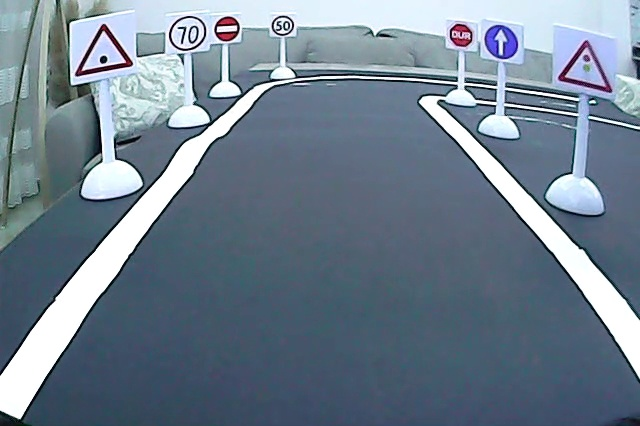do not enter: (213, 16, 242, 46)
green light: (70, 20, 140, 82)
red light: (554, 36, 617, 98)
speed limit 50: (270, 13, 296, 38)
speed limit 70: (167, 15, 209, 53)
stop sign: (447, 22, 478, 49)
